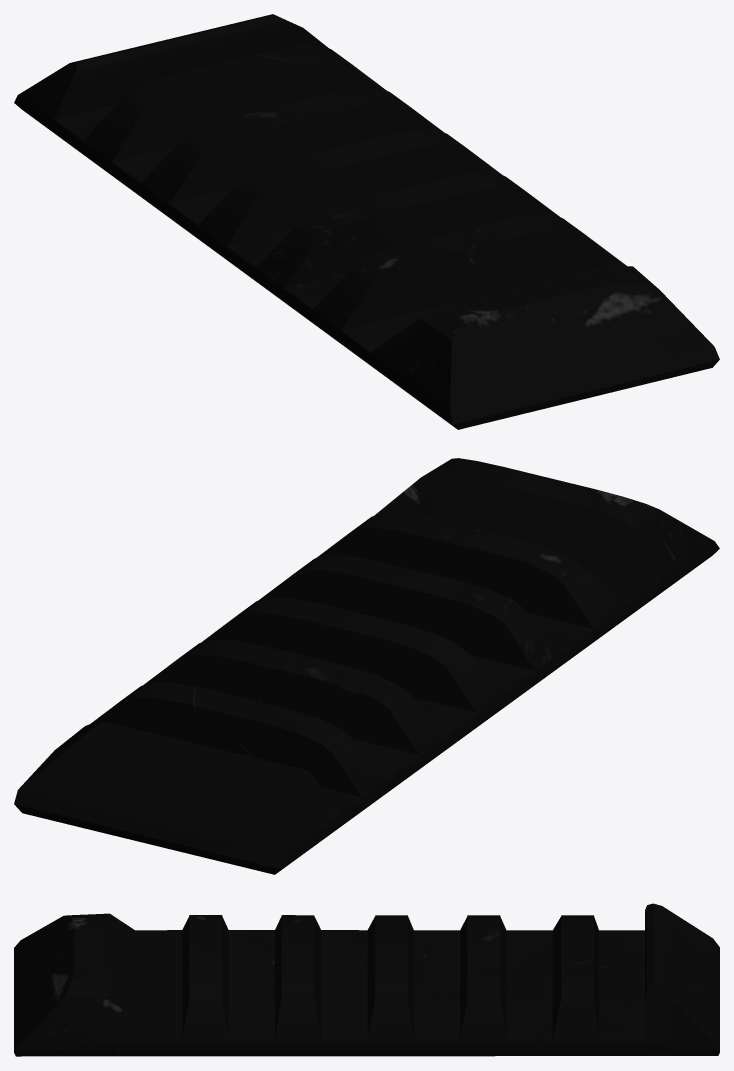
The model's file is rail.fbx.
3 renders of one model, top to bottom at view 1: azimuth 30°, elevation 25°; view 2: azimuth 150°, elevation 25°; view 3: azimuth 270°, elevation 25°, orthographic. The views are drawn at different scales.
Parts seen in each view (by area): view 1: Bake; view 2: Bake; view 3: Bake.
Boxes of the visible parts, left/top/right/bottom form: Bake: left=14, top=14, right=719, bottom=429; Bake: left=14, top=458, right=719, bottom=874; Bake: left=14, top=903, right=719, bottom=1056.
Bounding box in the file's own units: 100 × 26.16 × 271.
1 material, 1 textured.
